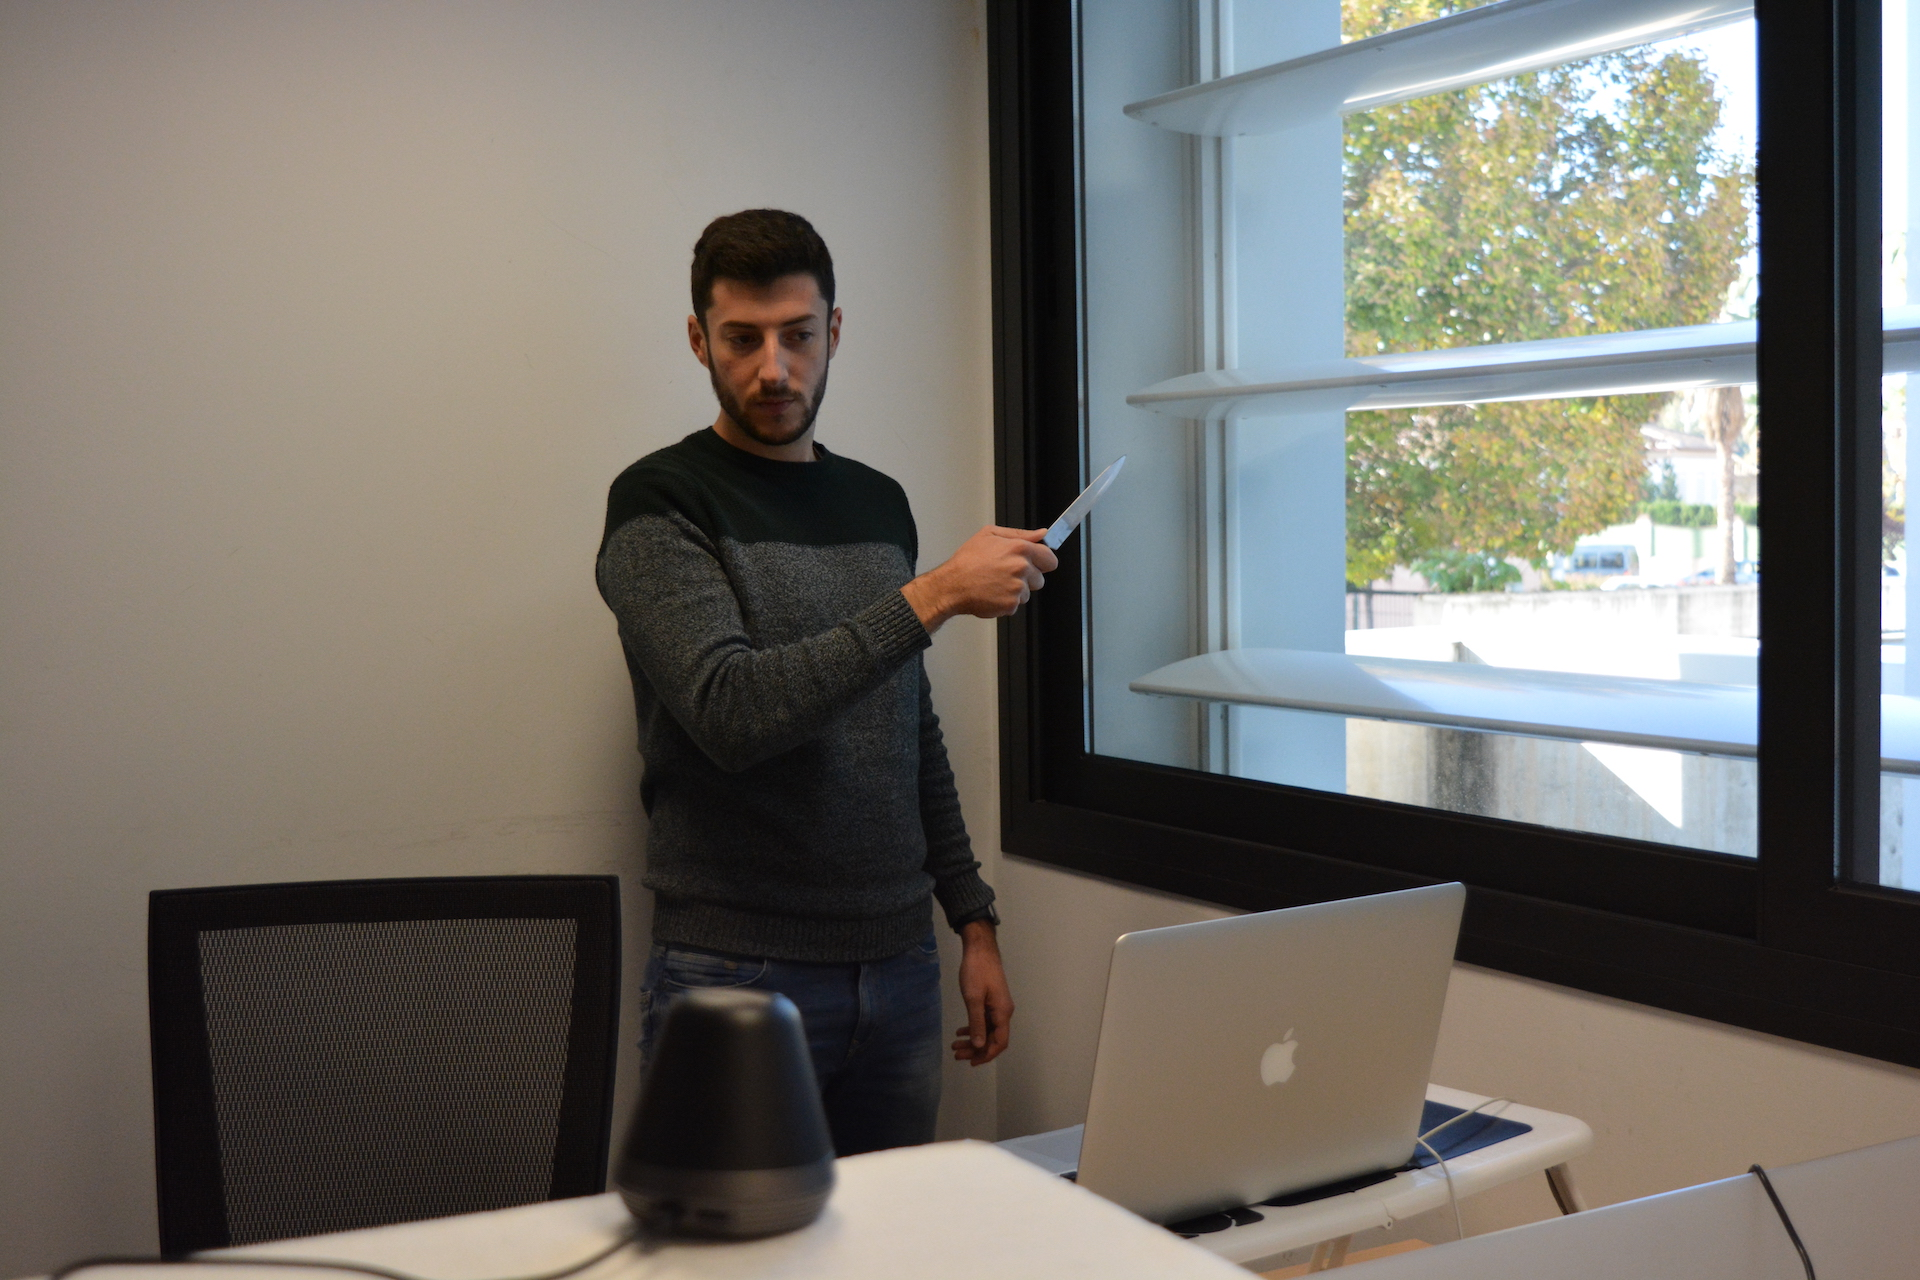knife: (1026, 449, 1134, 563)
